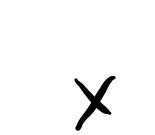mult: (73, 75, 117, 131)
